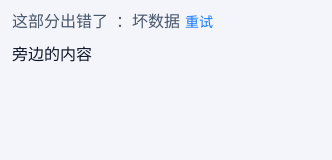
Test case: region error boundary › shows one line with the error and retries
This screenshot has width=332, height=160.
Expected: the message with test id "region-error" shows "这部分出错了", [12,13,108,30]
Expected: the message with test id "region-error" shows "坏数据", [132,13,180,30]
Click the button "重试": coordinates (199, 21) [184,9,214,33]
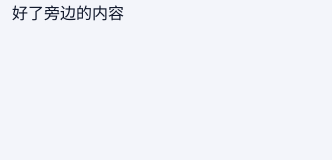
Expected: the text "好了" is shown, [12,5,44,22]
